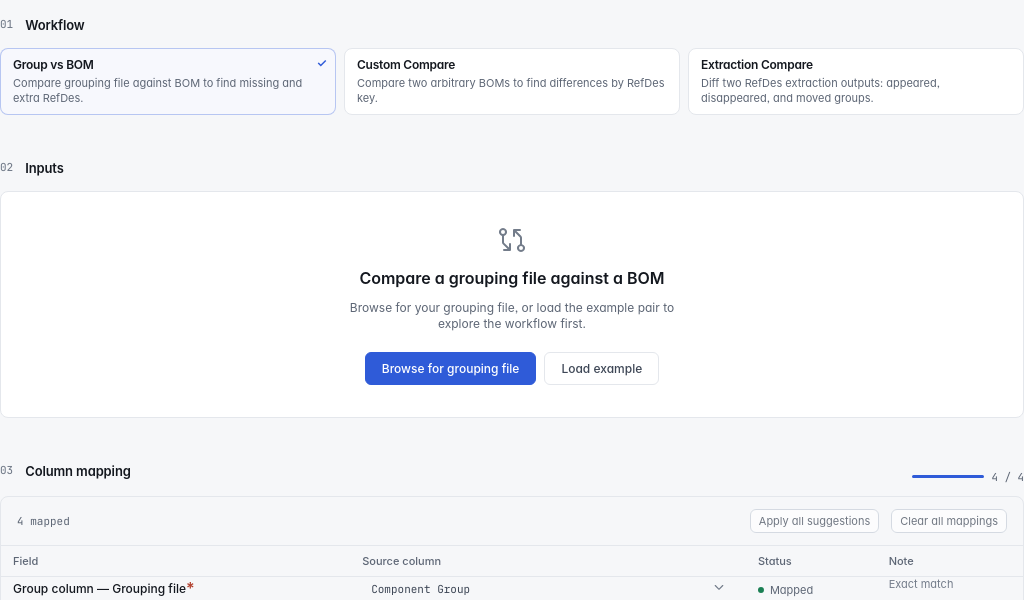
Scenario: BomCompareTool custom compare workflow › does not re-seed after the user removes the last compare pair
Click the button "Custom Compare". click: x=512, y=81
box: x1=344 y1=48 x2=680 y2=115
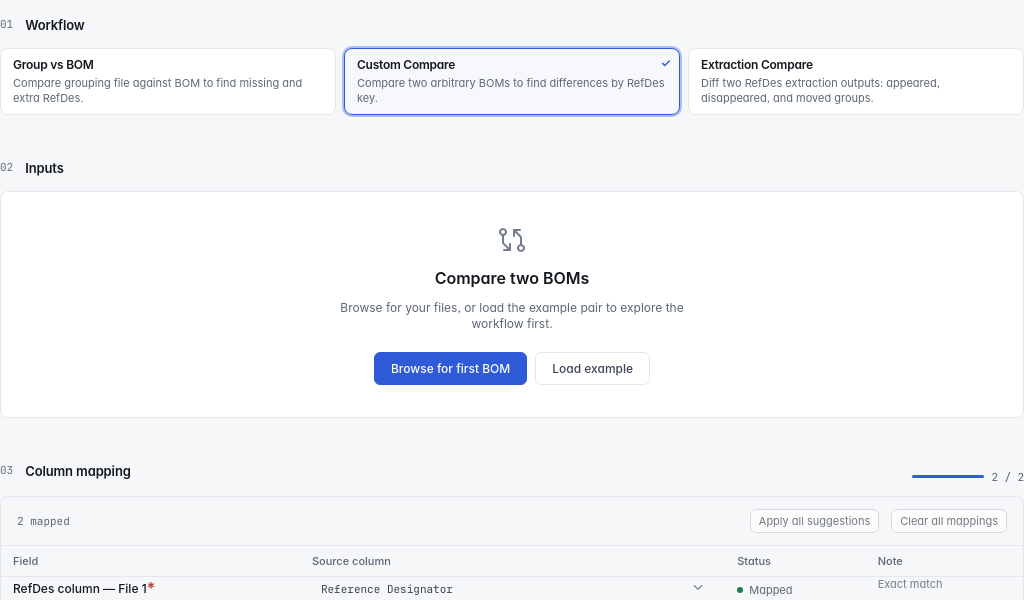
Click the button "Browse for first BOM". click: x=451, y=369
box: x1=374 y1=352 x2=527 y2=385
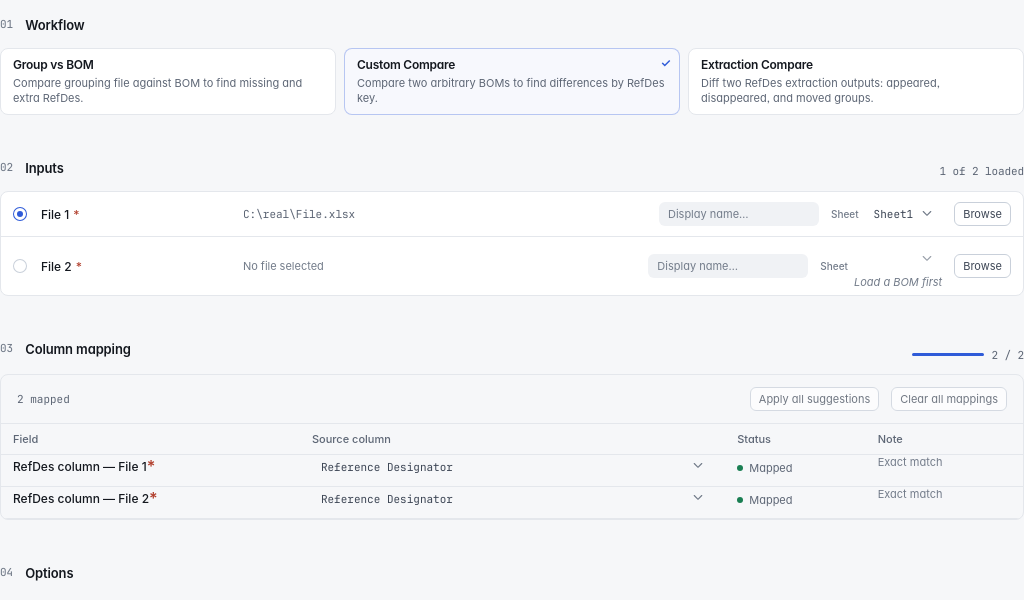
Click the button "Browse" next to "Load a BOM first". click: x=983, y=266
box: x1=954 y1=254 x2=1011 y2=278
(page scrolled)
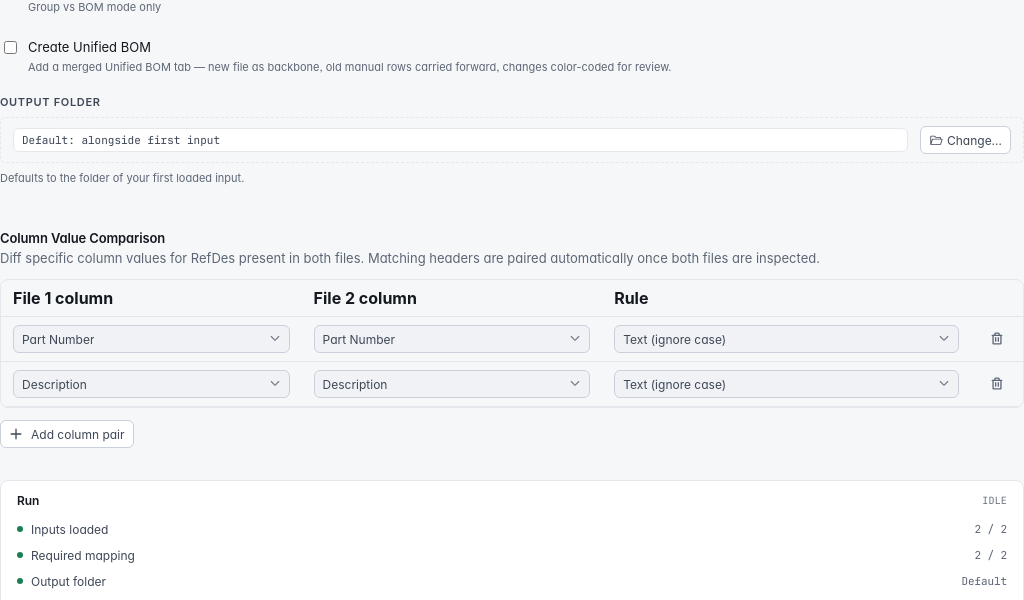
Click the button named "Remove compare pair". click: x=997, y=384
box: x1=983 y1=370 x2=1011 y2=398
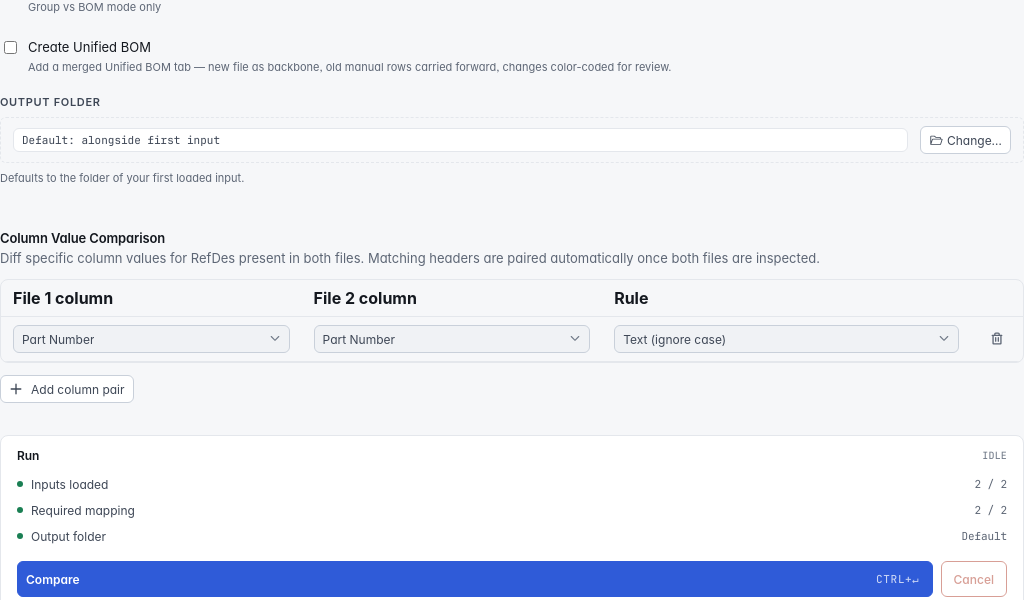
Click the button named "Remove compare pair". click: x=997, y=339
box: x1=983 y1=325 x2=1011 y2=353
(page scrolled)
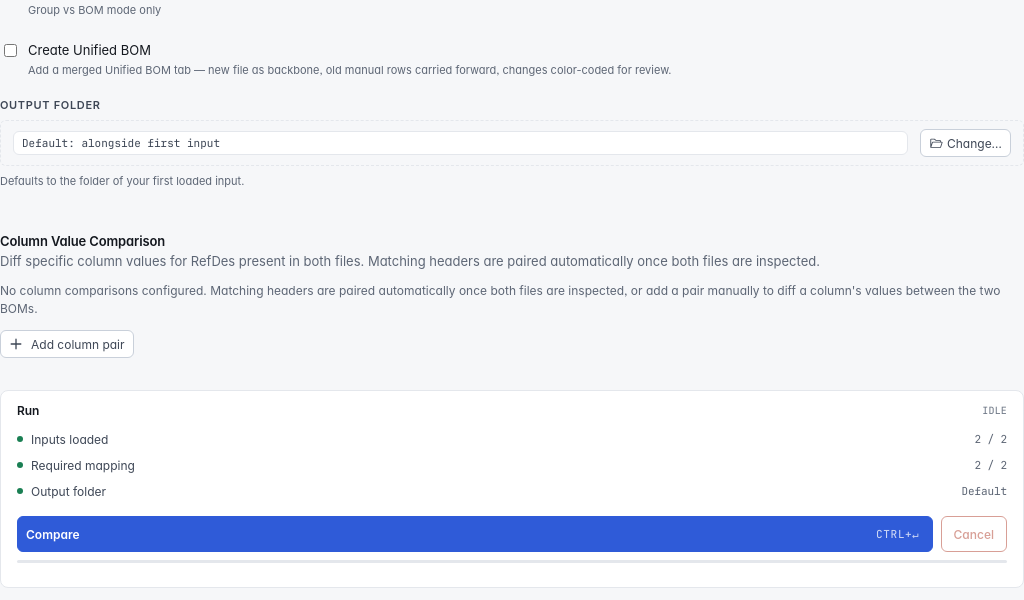
Result: the text "No column comparisons configured" is shown at x1=0 y1=283 x2=1000 y2=316
